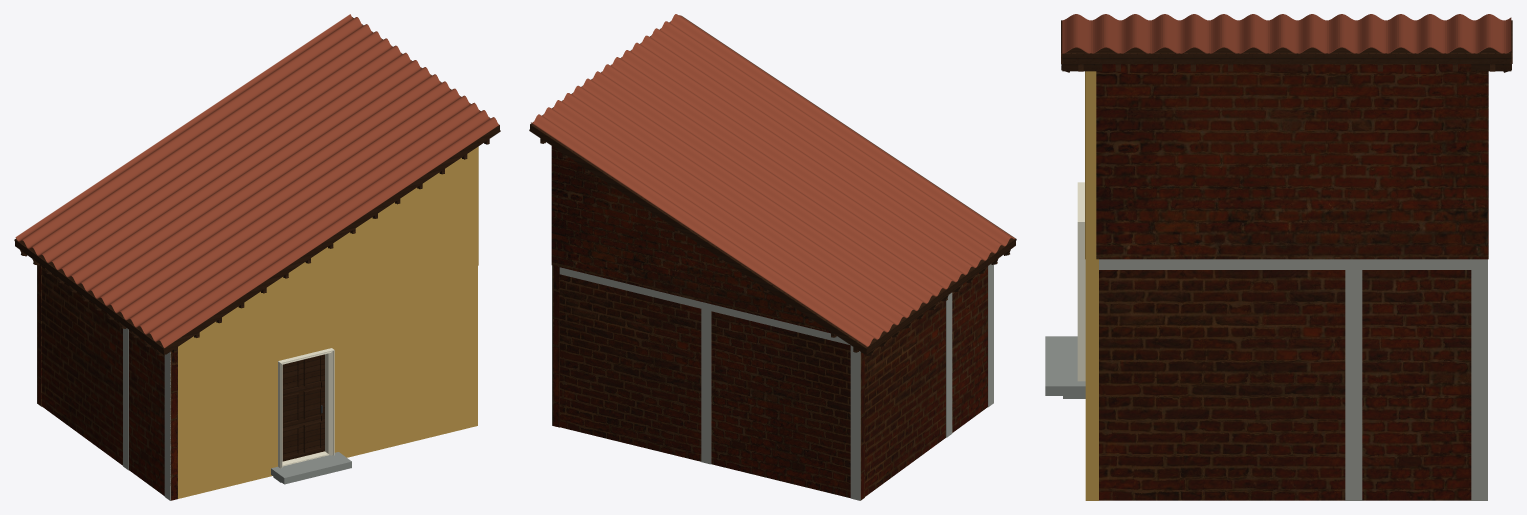
The model's file is building.glb.
The picture shows the model from 3 angles, left to right: view 1: azimuth 30°, elevation 25°; view 2: azimuth 150°, elevation 25°; view 3: azimuth 270°, elevation 25°; orthographic projection. The views are drawn at different scales.
Parts seen in each view (by area): view 1: house:0/edge0/z0/house:0/edge0/z0/wall_0_0, house:0/edge3/z0/house:0/edge3/z0/wall_0_0, roof_assembly/cubierta/roof_gable_closure#0002, roof_assembly/cubierta/roof_fascia#0002, site/entrance/0/entrance_step#0002, roof_assembly/cubierta/roof_fascia#0001, house:0/edge3/z0/house:0/edge3/z0/column_1_0, house:0/edge3/z0/house:0/edge3/z0/column_2_0, house:0/edge0/z0/opening_u2.80_v0.12/door_panel_back#0001, house:0/edge0/z0/opening_u2.80_v0.12/door_reveal#0001, house:0/edge2/z0/house:0/edge2/z0/wall_0_0, house:0/edge0/z0/opening_u2.80_v0.12/door_moulding#0028; view 2: house:0/edge2/z0/house:0/edge2/z0/wall_0_0, house:0/edge3/z0/house:0/edge3/z0/wall_0_0, roof_assembly/cubierta/roof_gable_closure#0006, roof_assembly/cubierta/roof_fascia#0004, house:0/edge2/z0/house:0/edge2/z0/beam_0_0, house:0/edge2/z0/house:0/edge2/z0/column_2_0, house:0/edge2/z0/house:0/edge2/z0/column_1_0, house:0/edge1/z0/house:0/edge1/z0/wall_0_0, roof_assembly/cubierta/roof_fascia#0001, house:0/edge3/z0/house:0/edge3/z0/column_2_0, house:0/edge3/z0/house:0/edge3/z0/column_1_0, roof_assembly/cubierta/roof_substrate#0001 (+1 smaller); view 3: house:0/edge1/z0/house:0/edge1/z0/wall_0_0, roof_assembly/cubierta/roof_gable_closure#0004, roof_assembly/cubierta/roof_fascia#0003, house:0/edge1/z0/house:0/edge1/z0/beam_0_0, house:0/edge1/z0/house:0/edge1/z0/column_2_0, house:0/edge1/z0/house:0/edge1/z0/column_1_0, house:0/edge0/z0/house:0/edge0/z0/wall_0_0, roof_assembly/cubierta/roof_gable_closure#0003, site/entrance/0/entrance_step#0002, house:0/edge0/z0/opening_u2.80_v0.12/door_moulding#0028, roof_assembly/cubierta/roof_substrate#0001.
Part boxes in pixels (bbox=[...]): house:0/edge0/z0/house:0/edge0/z0/wall_0_0: bbox=[178, 266, 477, 498]; house:0/edge3/z0/house:0/edge3/z0/wall_0_0: bbox=[42, 266, 177, 500]; roof_assembly/cubierta/roof_gable_closure#0002: bbox=[199, 147, 478, 333]; roof_assembly/cubierta/roof_fascia#0002: bbox=[163, 126, 500, 354]; site/entrance/0/entrance_step#0002: bbox=[271, 452, 351, 484]; roof_assembly/cubierta/roof_fascia#0001: bbox=[15, 239, 165, 354]; house:0/edge3/z0/house:0/edge3/z0/column_1_0: bbox=[164, 352, 170, 500]; house:0/edge3/z0/house:0/edge3/z0/column_2_0: bbox=[123, 328, 128, 470]; house:0/edge0/z0/opening_u2.80_v0.12/door_panel_back#0001: bbox=[282, 359, 320, 453]; house:0/edge0/z0/opening_u2.80_v0.12/door_reveal#0001: bbox=[278, 348, 331, 466]; house:0/edge2/z0/house:0/edge2/z0/wall_0_0: bbox=[37, 264, 41, 406]; house:0/edge0/z0/opening_u2.80_v0.12/door_moulding#0028: bbox=[278, 348, 334, 468]; house:0/edge2/z0/house:0/edge2/z0/wall_0_0: bbox=[560, 274, 864, 500]; house:0/edge3/z0/house:0/edge3/z0/wall_0_0: bbox=[865, 266, 987, 496]; roof_assembly/cubierta/roof_gable_closure#0006: bbox=[558, 150, 830, 333]; roof_assembly/cubierta/roof_fascia#0004: bbox=[529, 125, 867, 354]; house:0/edge2/z0/house:0/edge2/z0/beam_0_0: bbox=[559, 267, 849, 344]; house:0/edge2/z0/house:0/edge2/z0/column_2_0: bbox=[701, 309, 711, 464]; house:0/edge2/z0/house:0/edge2/z0/column_1_0: bbox=[850, 345, 860, 500]; house:0/edge1/z0/house:0/edge1/z0/wall_0_0: bbox=[552, 265, 559, 427]; roof_assembly/cubierta/roof_fascia#0001: bbox=[865, 239, 1015, 354]; house:0/edge3/z0/house:0/edge3/z0/column_2_0: bbox=[946, 292, 952, 437]; house:0/edge3/z0/house:0/edge3/z0/column_1_0: bbox=[988, 264, 993, 407]; roof_assembly/cubierta/roof_substrate#0001: bbox=[530, 124, 1013, 353]; house:0/edge1/z0/house:0/edge1/z0/wall_0_0: bbox=[1099, 270, 1471, 500]; roof_assembly/cubierta/roof_gable_closure#0004: bbox=[1096, 64, 1487, 259]; roof_assembly/cubierta/roof_fascia#0003: bbox=[1062, 53, 1511, 63]; house:0/edge1/z0/house:0/edge1/z0/beam_0_0: bbox=[1099, 259, 1487, 269]; house:0/edge1/z0/house:0/edge1/z0/column_2_0: bbox=[1345, 270, 1362, 500]; house:0/edge1/z0/house:0/edge1/z0/column_1_0: bbox=[1471, 270, 1487, 500]; house:0/edge0/z0/house:0/edge0/z0/wall_0_0: bbox=[1085, 259, 1098, 500]; roof_assembly/cubierta/roof_gable_closure#0003: bbox=[1085, 71, 1096, 259]; site/entrance/0/entrance_step#0002: bbox=[1045, 336, 1085, 395]; house:0/edge0/z0/opening_u2.80_v0.12/door_moulding#0028: bbox=[1077, 182, 1085, 381]; roof_assembly/cubierta/roof_substrate#0001: bbox=[1066, 47, 1510, 52].
Size of the model in its own units: 8.76 by 7.68 by 6.97.
Materials: 8 (2 with a texture image).
